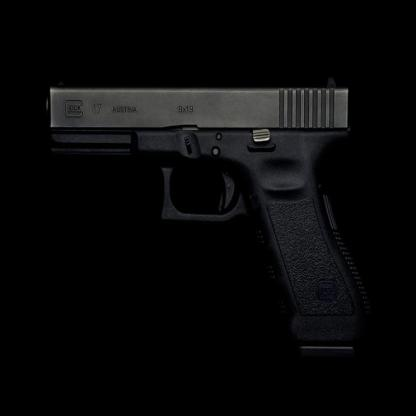handgun: (45, 71, 373, 355)
